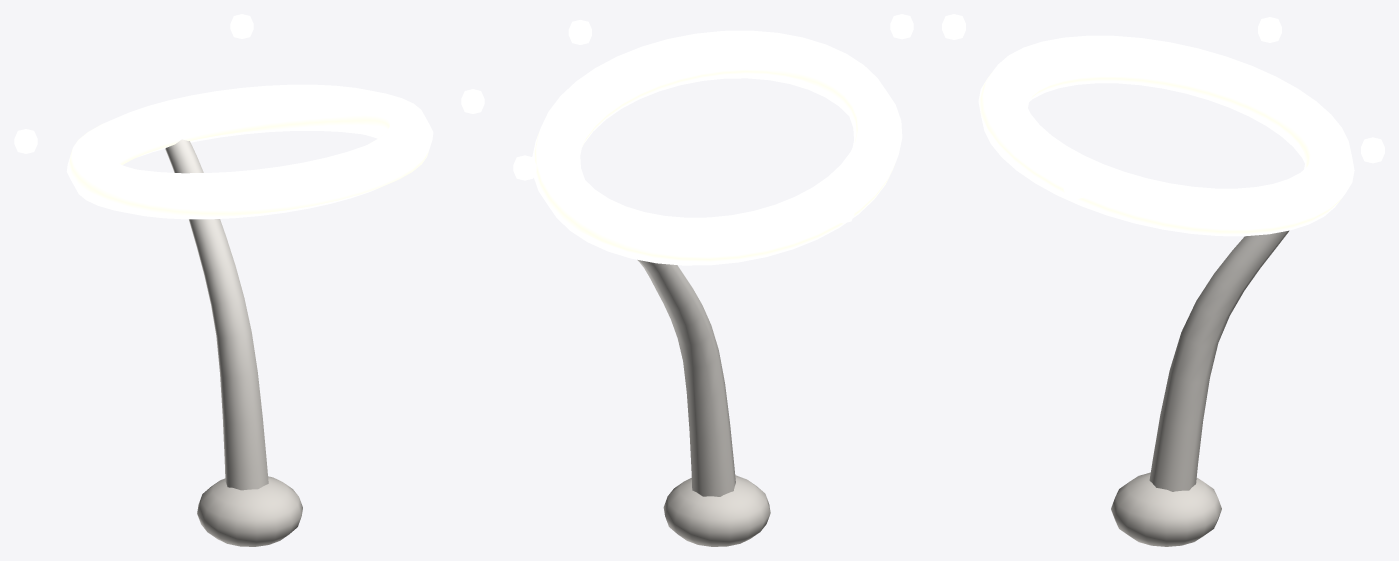
Rendered from part_halo.glb.
3 renders of one model, left to right at view 1: azimuth 30°, elevation 25°; view 2: azimuth 150°, elevation 25°; view 3: azimuth 270°, elevation 25°, orthographic. The views are drawn at different scales.
Visible parts, largest first — view 1: part_halo_painted_mesh; view 2: part_halo_painted_mesh; view 3: part_halo_painted_mesh.
Part boxes in pixels (x1,y1,x2,y2): part_halo_painted_mesh: (14,14,484,546); part_halo_painted_mesh: (513,14,913,546); part_halo_painted_mesh: (942,14,1384,546).
Bounding box in the file's own units: 0.8135 × 0.9596 × 0.7963.
